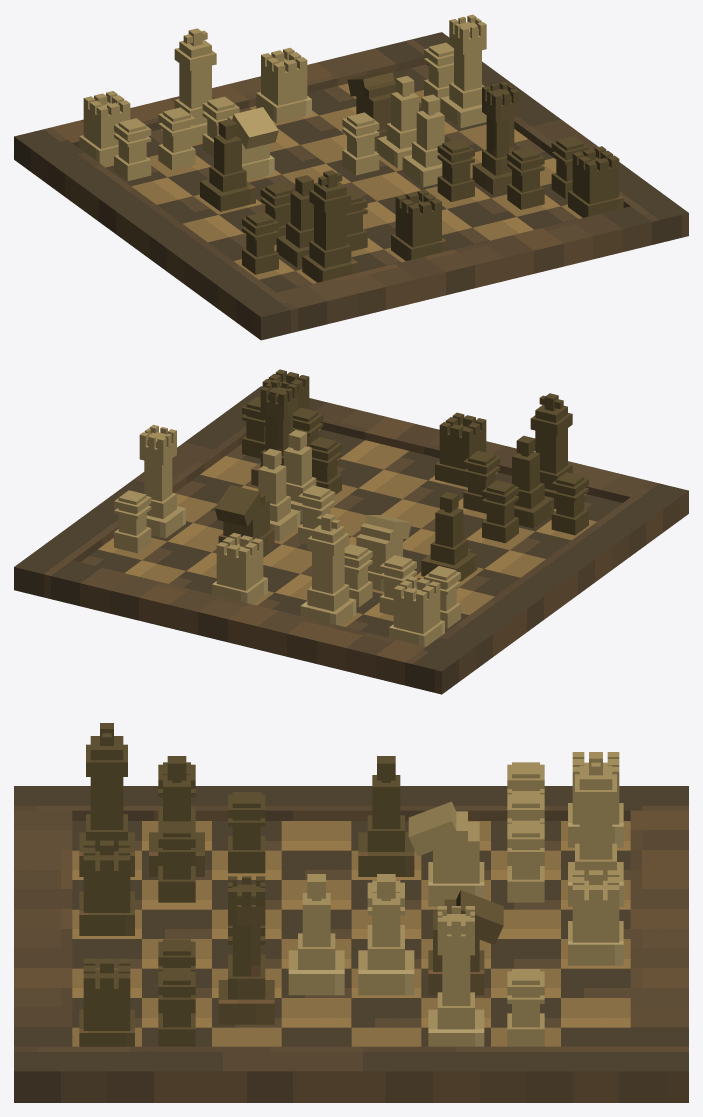
Rendered from chessboard.gltf.
3 renders of one model, top to bottom at view 1: azimuth 30°, elevation 25°; view 2: azimuth 150°, elevation 25°; view 3: azimuth 270°, elevation 25°, orthographic. The views are drawn at different scales.
Parts seen in each view (by area): view 1: cube (×73); view 2: cube (×69); view 3: cube (×99).
Part boxes in pixels (x1,y1,x2,y2): cube (×73): [14, 31, 688, 340]; cube (×69): [14, 386, 688, 694]; cube (×99): [14, 736, 688, 1102].
Size of the model in its own units: 0.9062 by 0.2375 by 0.9062.
Materials: 4 (4 with a texture image).
